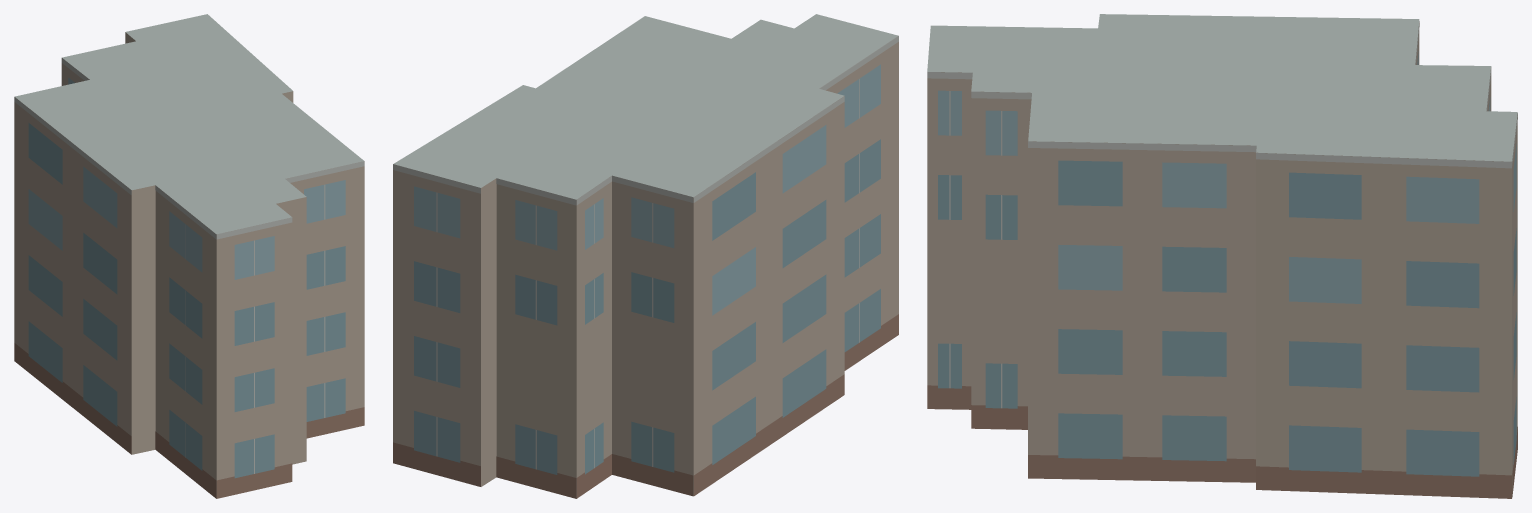
Rendered from survey-upis-32684124.glb.
3 renders of one model, left to right at view 1: azimuth 30°, elevation 25°; view 2: azimuth 150°, elevation 25°; view 3: azimuth 270°, elevation 25°, orthographic. The views are drawn at different scales.
Visible parts, largest first — view 1: survey-upis-32684124.tmp; view 2: survey-upis-32684124.tmp; view 3: survey-upis-32684124.tmp.
Part boxes in pixels (x1=…): survey-upis-32684124.tmp: x1=14, y1=14, x2=364, y2=498; survey-upis-32684124.tmp: x1=393, y1=14, x2=898, y2=498; survey-upis-32684124.tmp: x1=927, y1=14, x2=1517, y2=498.
Size of the model in its own units: 11.66 by 12.4 by 19.7.
